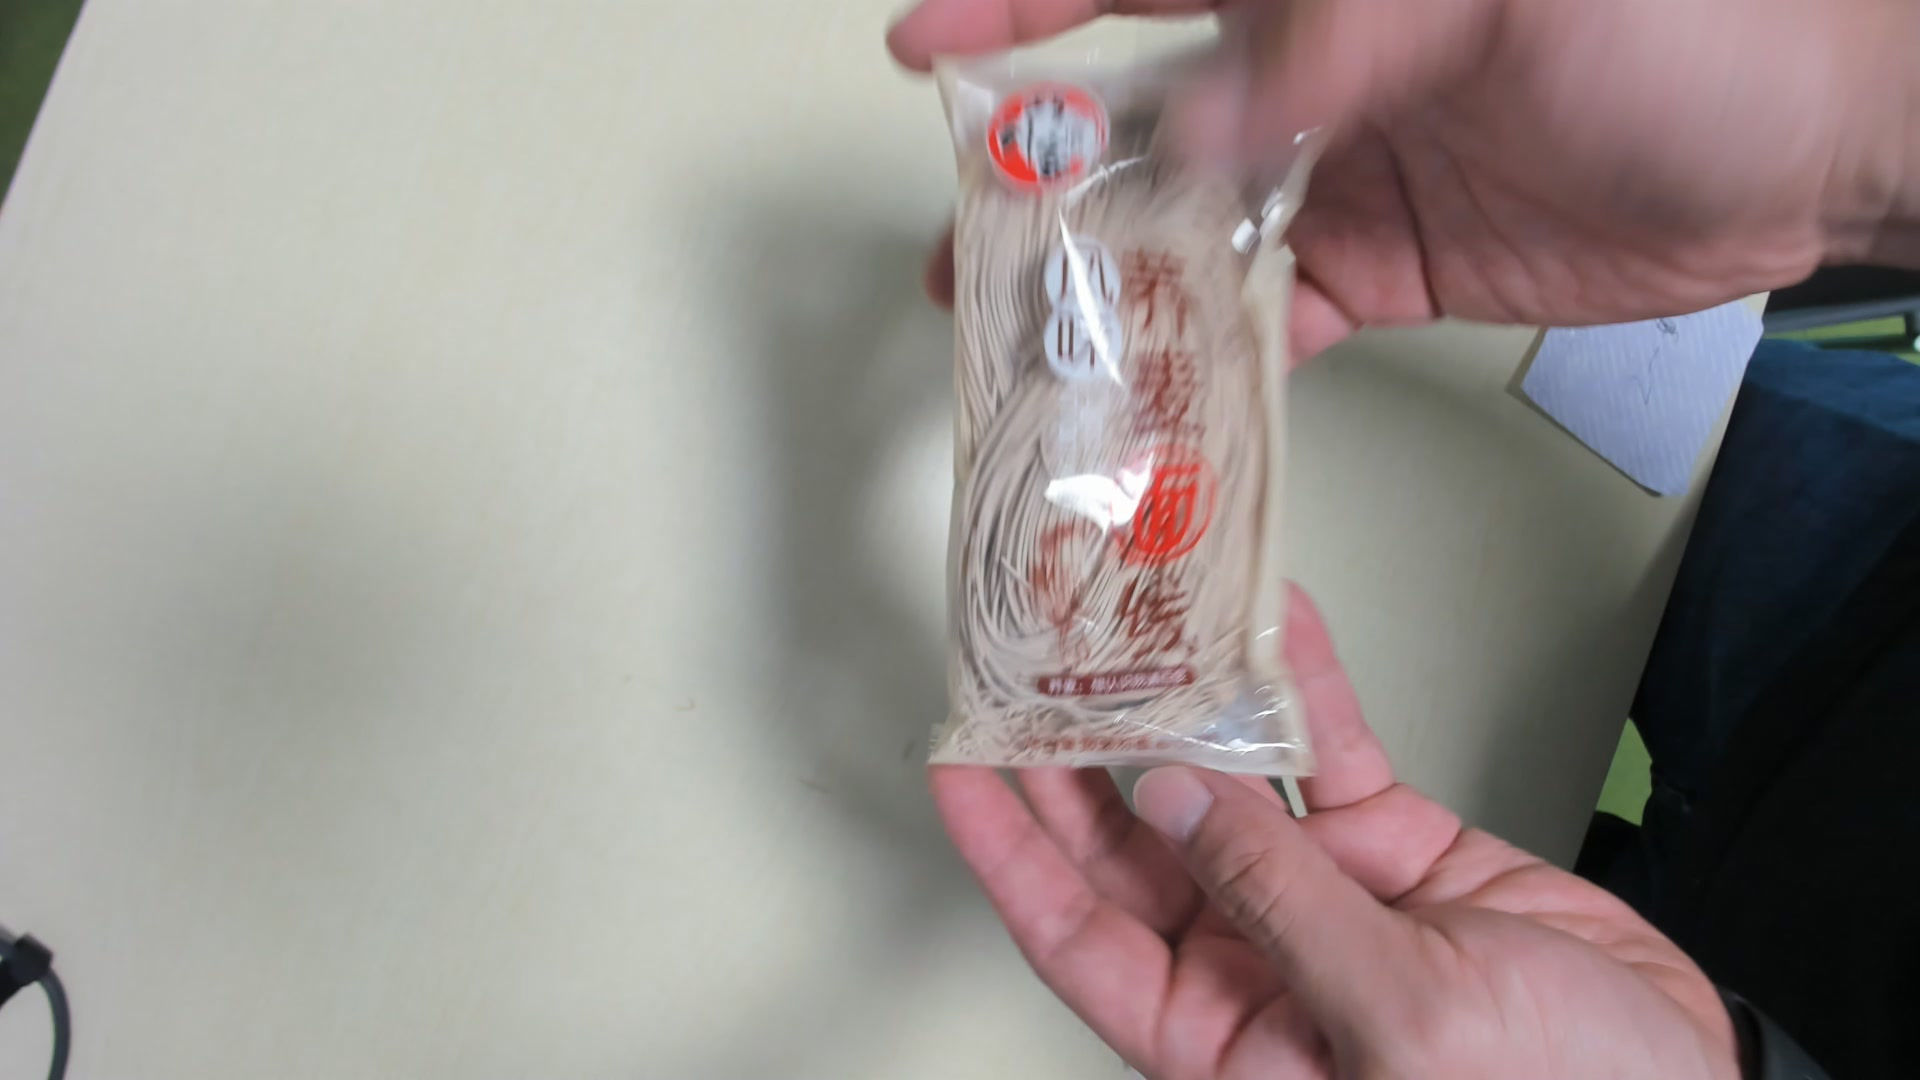BeeHoonVermicelli_0-99g_NonHalal_NonHealthy: (930, 62, 1302, 770)
